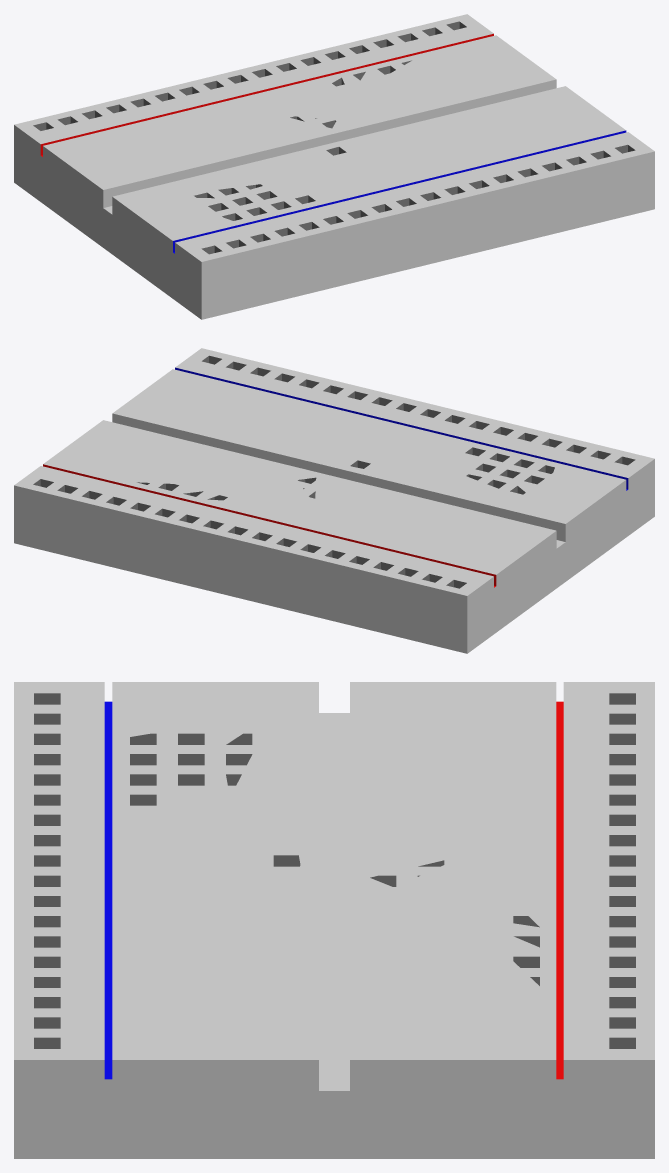
The model's file is breadboard.fbx.
The picture shows the model from 3 angles, top to bottom: view 1: azimuth 30°, elevation 25°; view 2: azimuth 150°, elevation 25°; view 3: azimuth 270°, elevation 25°; orthographic projection. The views are drawn at different scales.
Parts seen in each view (by area): view 1: Cube_SolidBox; view 2: Cube_SolidBox; view 3: Cube_SolidBox.
Boxes of the visible parts, left/top/right/bottom form: Cube_SolidBox: left=14, top=14, right=654, bottom=319; Cube_SolidBox: left=14, top=348, right=654, bottom=653; Cube_SolidBox: left=14, top=682, right=654, bottom=1158.
Size of the model in its own units: 134 by 16.38 by 96.29.
